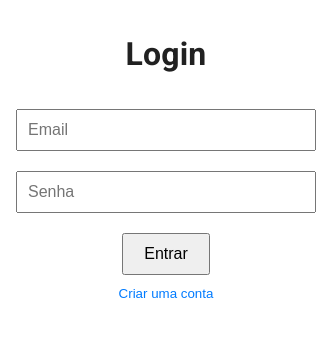
Test case: Login › shows error for invalid credentials
In the field with placeholder "Email": (166,130) [16, 109, 316, 151], type "usuario@email.com"
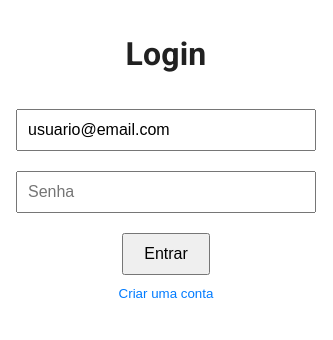
In the password field with placeholder "Senha": (166,192) [16, 171, 316, 213], type "senhaErrada"
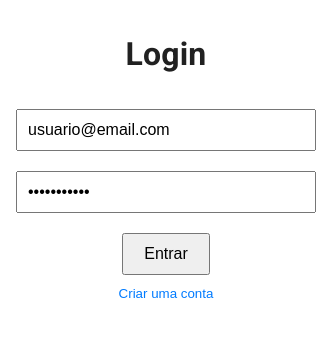
Click the button "Entrar": (166,254) [122, 233, 210, 275]
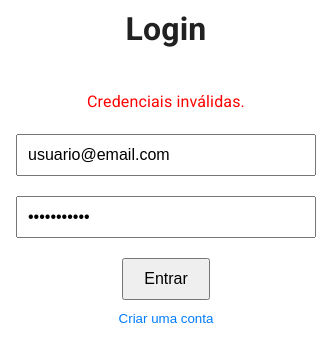
Now the text "Credenciais inválidas." is shown, box [87, 90, 245, 114]
